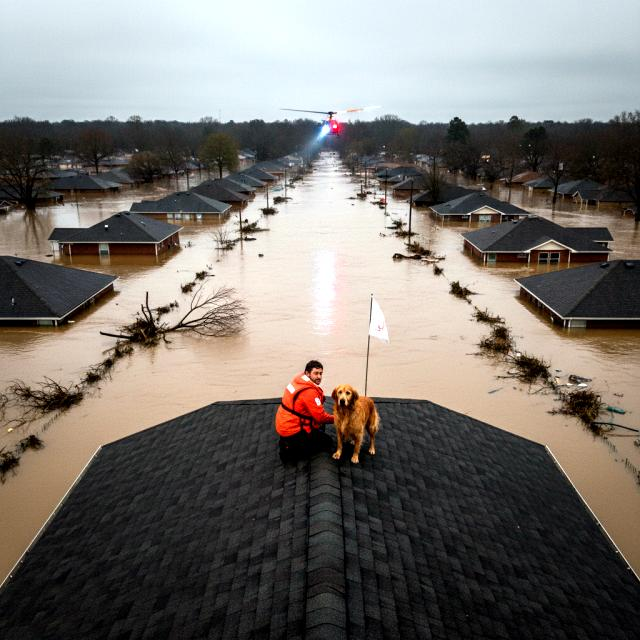dog: (327, 382, 389, 472)
rescuer: (272, 353, 340, 457)
